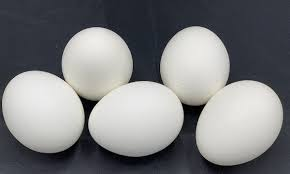eggs: (1, 59, 81, 153), (199, 75, 274, 165), (91, 76, 175, 153), (157, 23, 228, 101), (60, 23, 136, 84)
